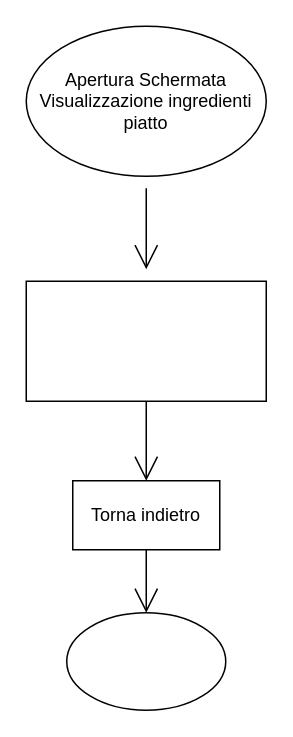
Image size: 293x737. Some labels were removed from this diagram. Each missing label, with the box of its shape:
Ritorno alla scelta del piatto: (65, 611, 226, 710)
Visualizza ingredienti piatto: (25, 280, 266, 401)
